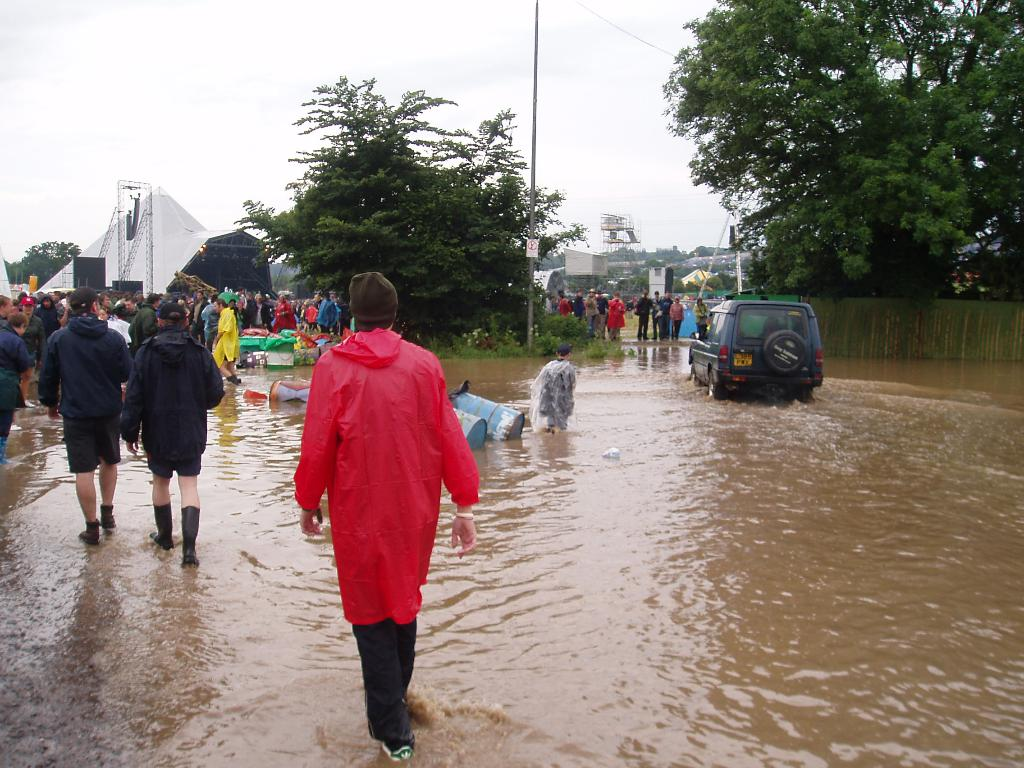Car: (686, 301, 827, 412)
